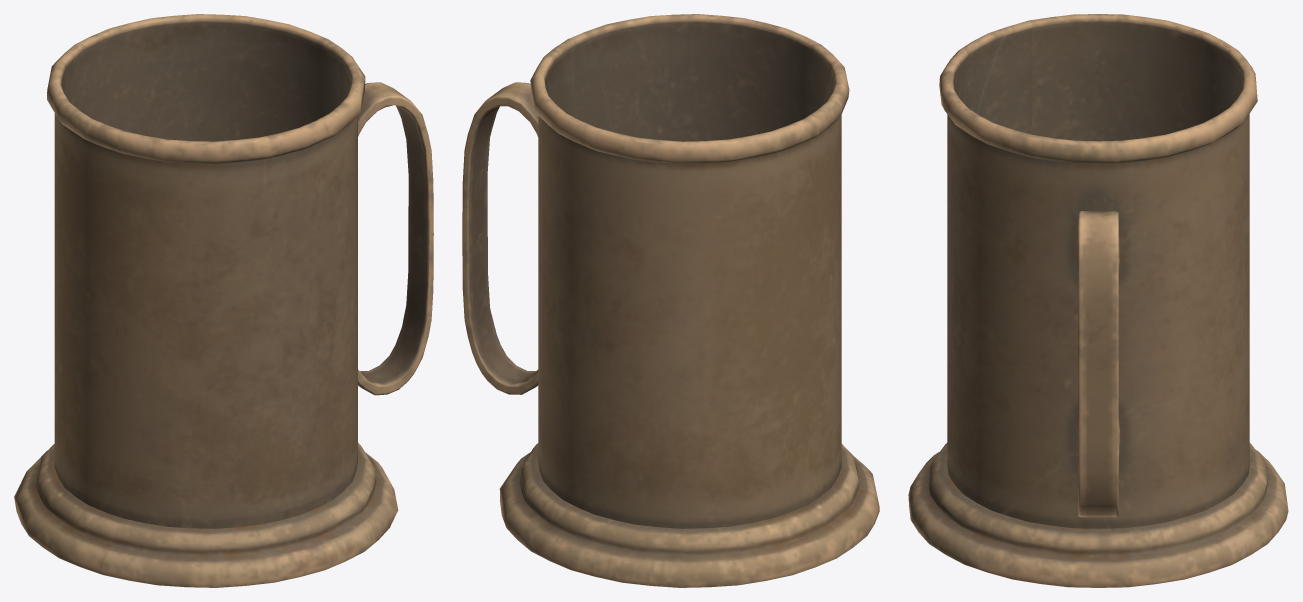
File: SM_Prop_Mug_A.fbx
3 views of the same model, side by side, from view 1: azimuth 30°, elevation 25°; view 2: azimuth 150°, elevation 25°; view 3: azimuth 270°, elevation 25° (orthographic).
Visible parts, largest first — view 1: SM_Prop_Mug_A_LOD0; view 2: SM_Prop_Mug_A_LOD0; view 3: SM_Prop_Mug_A_LOD0.
Part boxes in pixels (x1,y1,x2,y2): SM_Prop_Mug_A_LOD0: (14, 14, 433, 587); SM_Prop_Mug_A_LOD0: (462, 14, 879, 587); SM_Prop_Mug_A_LOD0: (908, 14, 1288, 587).
Bounding box in the file's own units: 13.05 × 11.22 × 14.02.
1 material, 1 textured.
